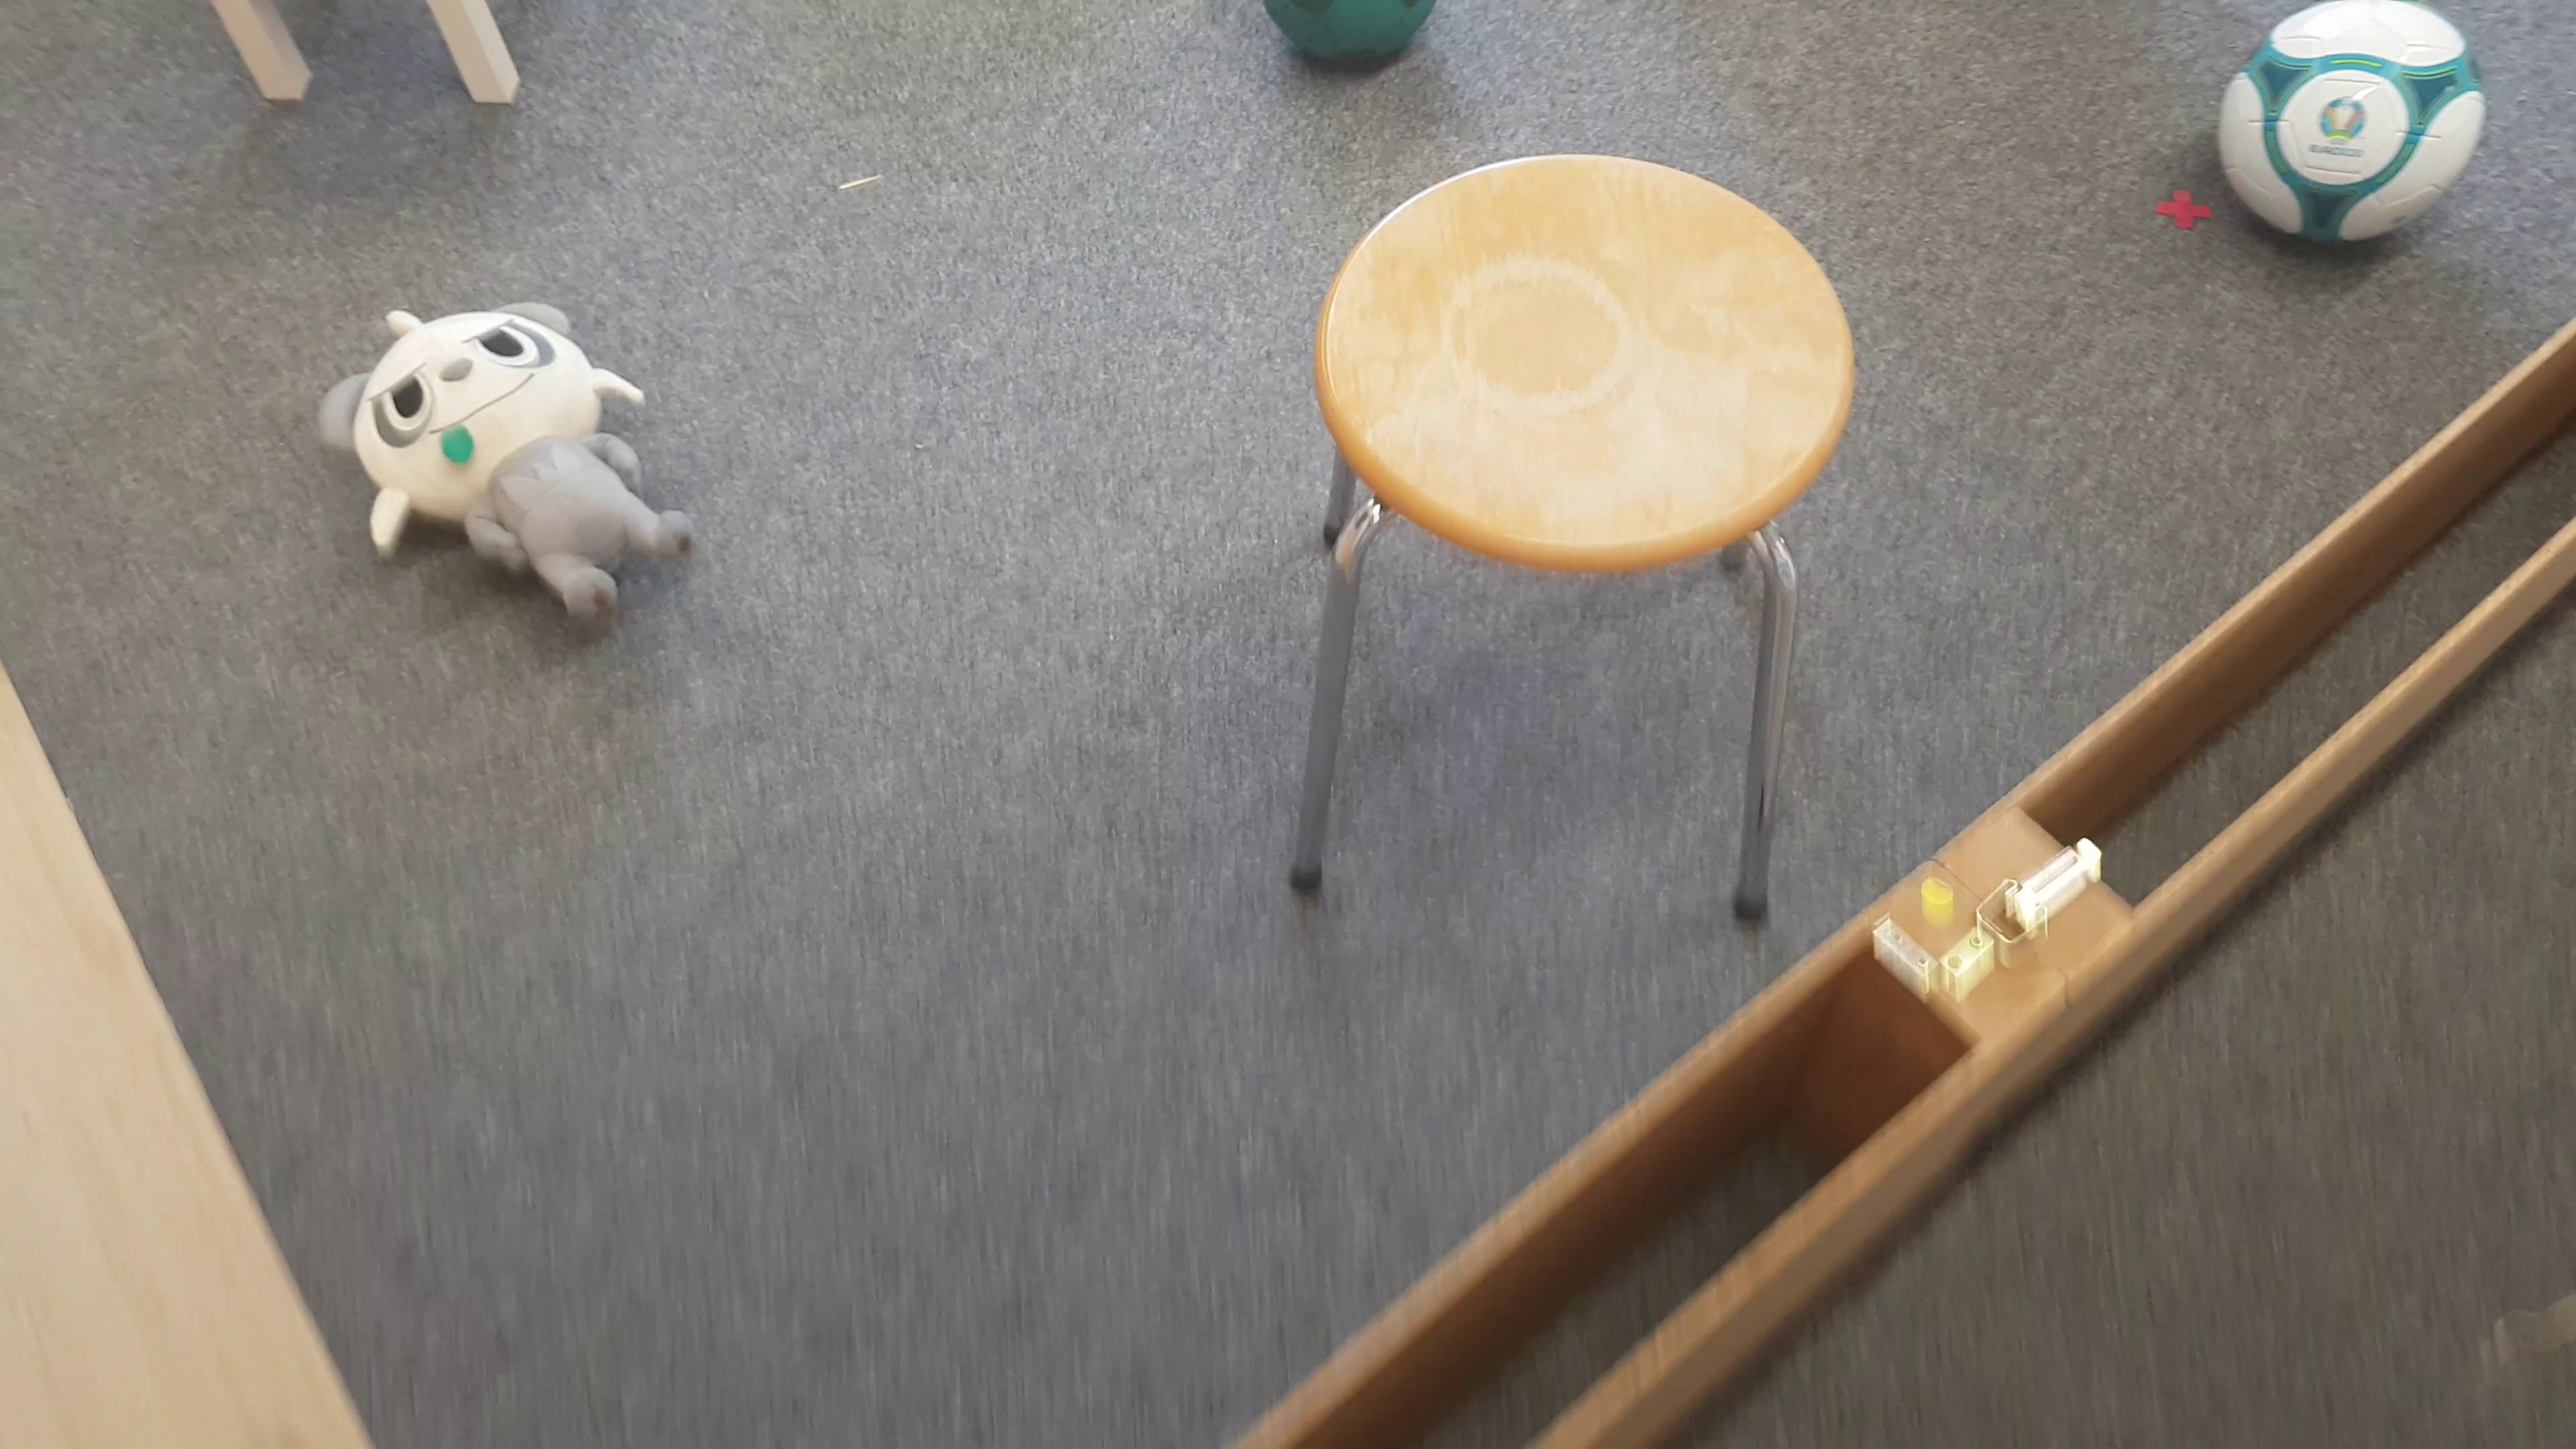grasp: (320, 299, 702, 625)
kick: (2222, 4, 2484, 255), (1260, 2, 1440, 74)
